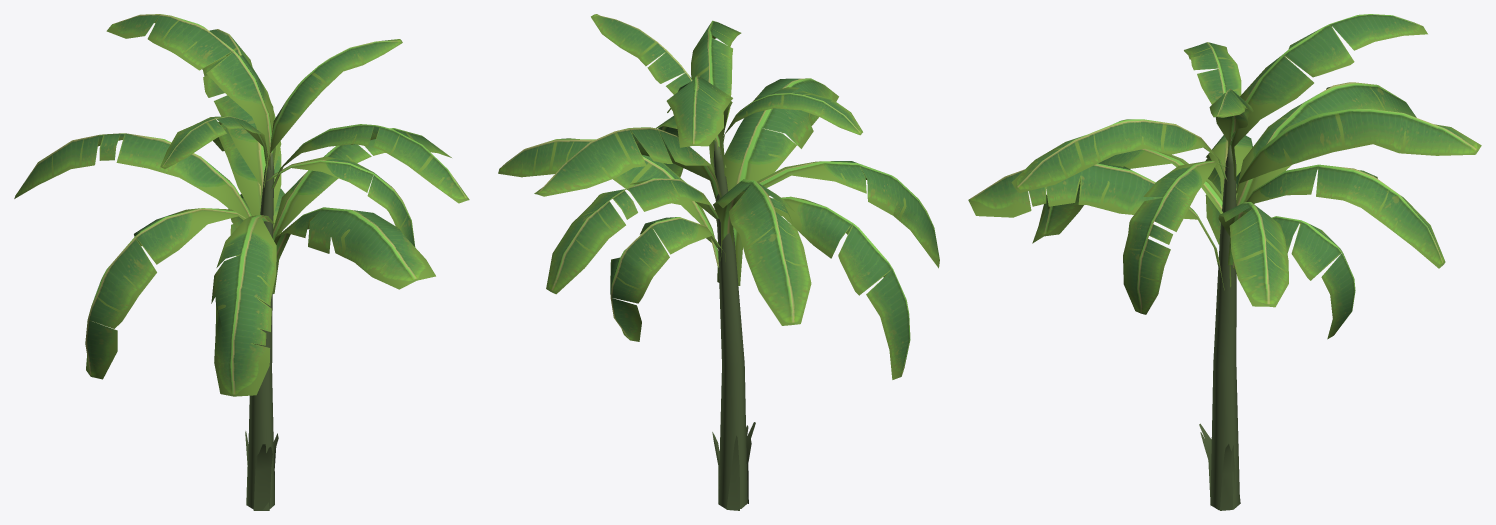
File: P_BananaTree04.obj
3 renders of one model, left to right at view 1: azimuth 30°, elevation 25°; view 2: azimuth 150°, elevation 25°; view 3: azimuth 270°, elevation 25°, orthographic. The views are drawn at different scales.
Size of the model in its own units: 5.21 by 5.95 by 5.81.
